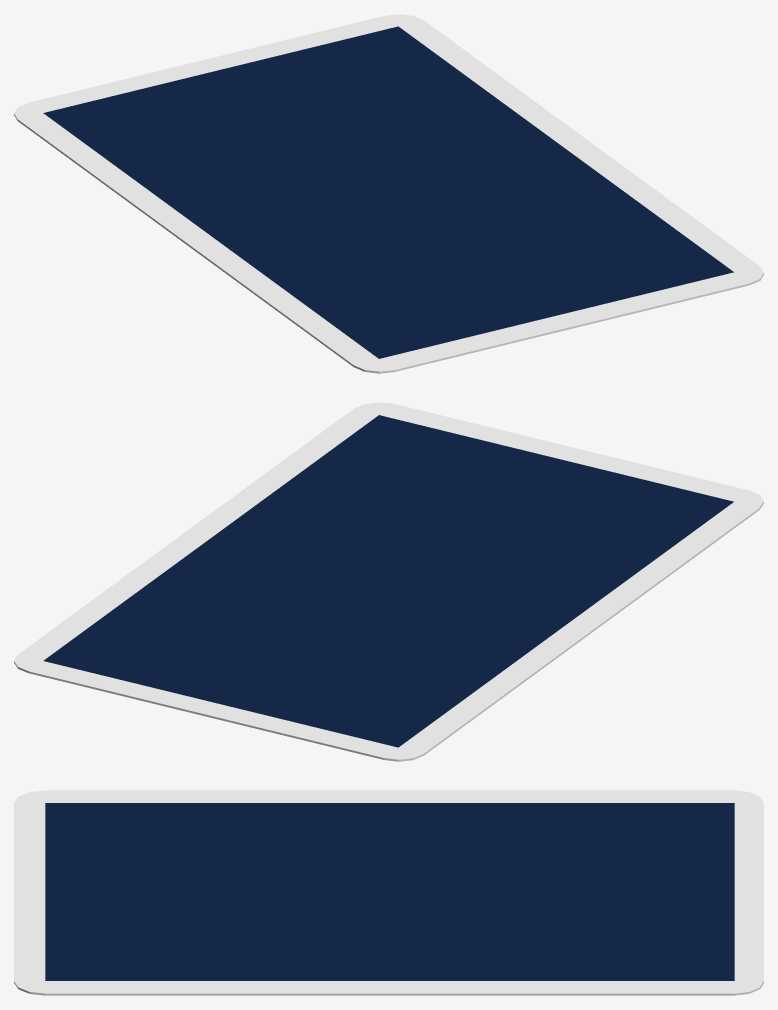
File: cards.fbx
The picture shows the model from 3 angles, top to bottom: view 1: azimuth 30°, elevation 25°; view 2: azimuth 150°, elevation 25°; view 3: azimuth 270°, elevation 25°; orthographic projection. The views are drawn at different scales.
Parts seen in each view (by area): view 1: Text.003; view 2: Text.003; view 3: Text.003.
Part boxes in pixels (x1,y1,x2,y2): Text.003: (14, 14, 763, 373); Text.003: (14, 402, 763, 761); Text.003: (14, 790, 763, 995).
Size of the model in its own units: 520 by 2.4 by 810.
